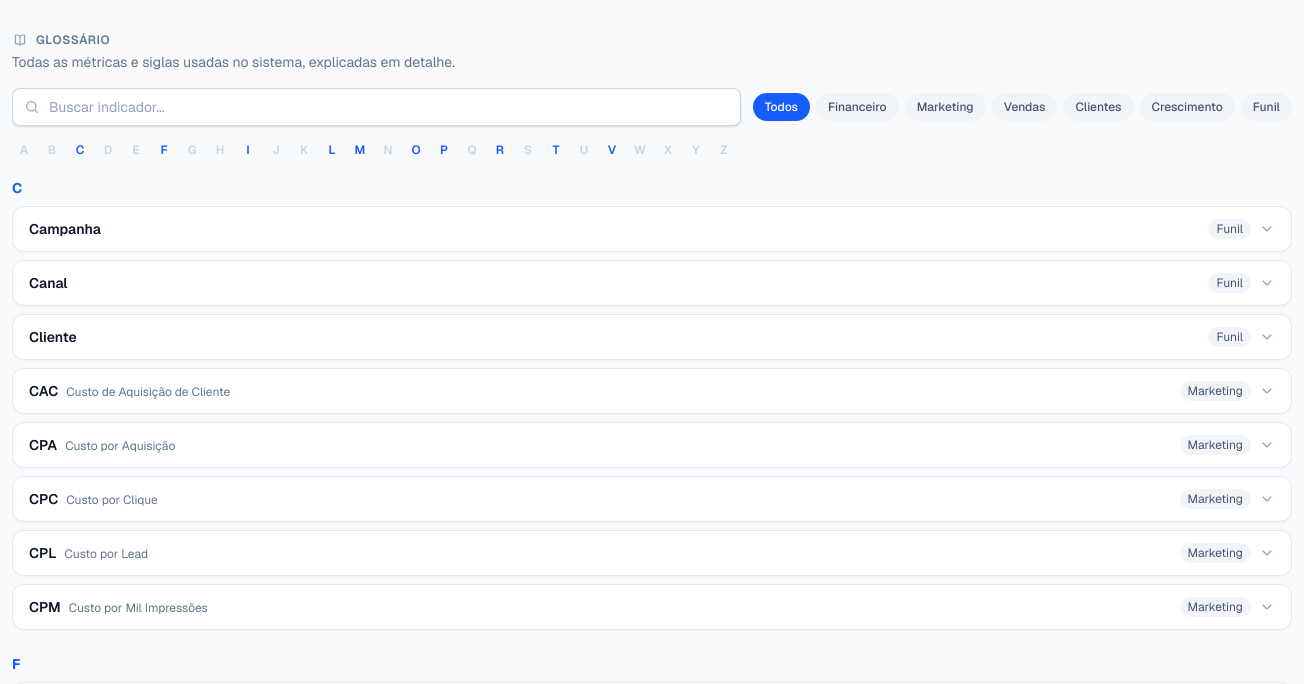
it: GlossaryPage › indice alfabetico desabilita letras sem conteudo
Step 1. Type "CAC" into the search field with placeholder "Buscar indicador..." → [376, 107], box [12,88,741,126]
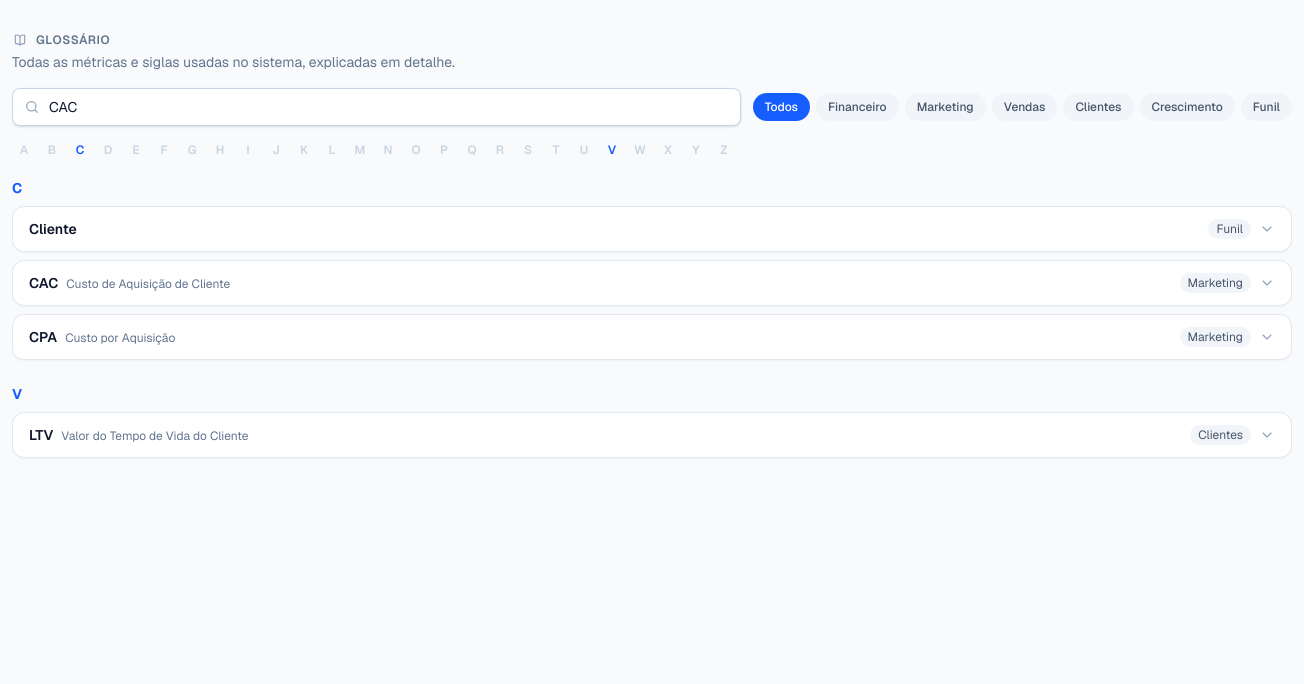
Expected: the button "C" is enabled, [68,138,92,162]
Expected: the button "R" is disabled, [488,138,512,162]
